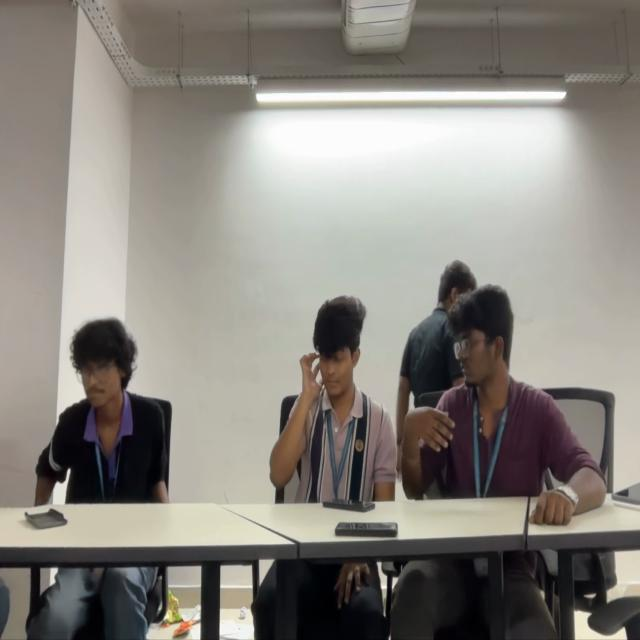Isolated: (36, 316, 166, 501)
socializing: (272, 263, 608, 498)
